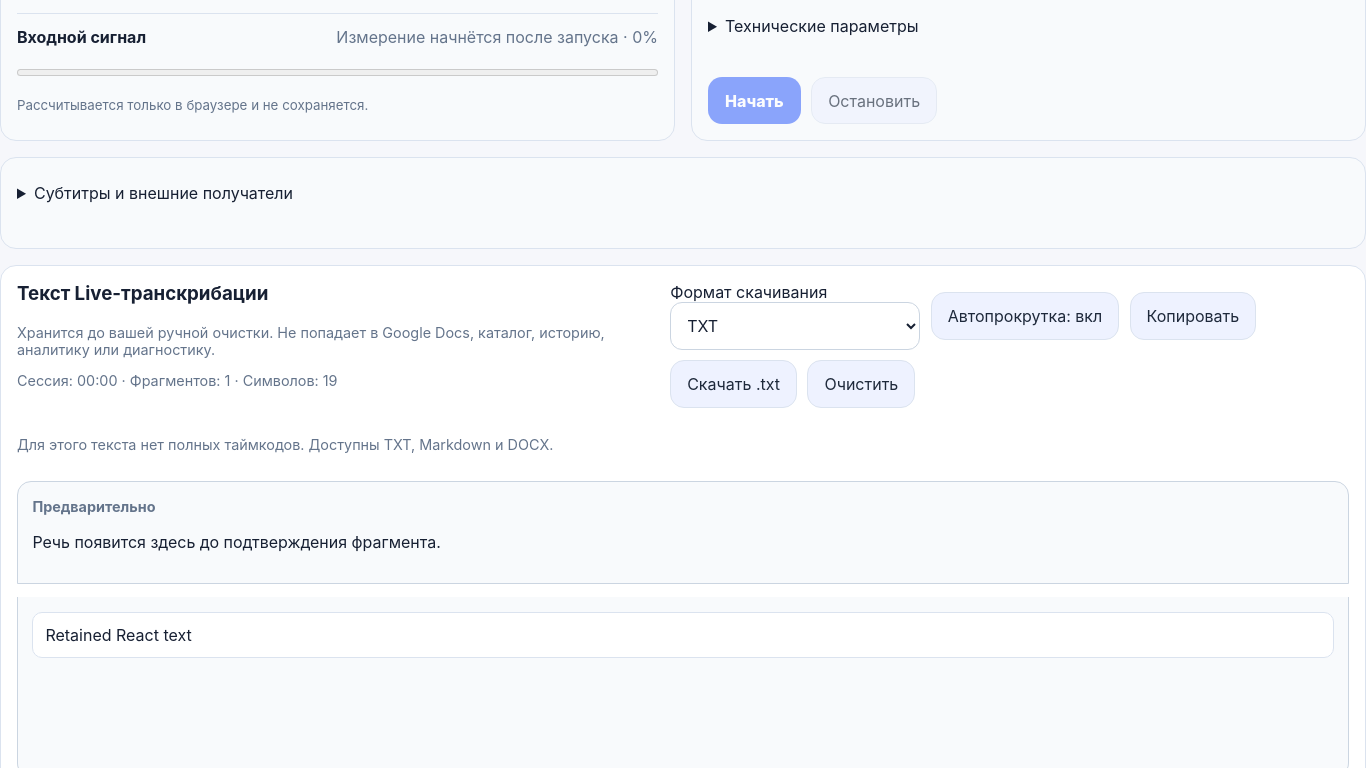
LiveTranscriptionPanel › clears an unresolved recovery draft together with retained text
This screenshot has width=1366, height=768.
(page scrolled)
Step 1. Click the button "Очистить" → (861, 384), box top-left (807, 360), bottom-right (915, 408)
(page scrolled)
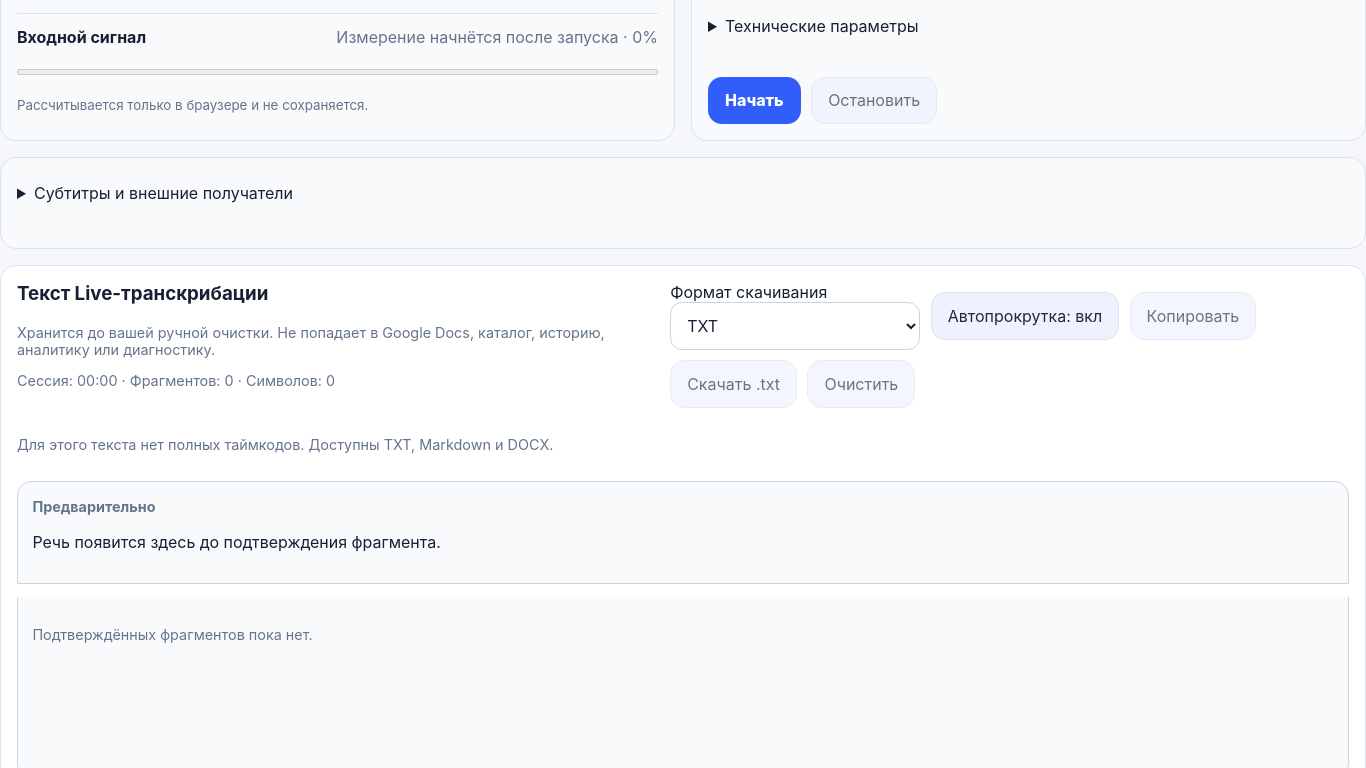
Now the text "Подтверждённых фрагментов пока нет." is shown, box top-left (32, 626), bottom-right (313, 643)
